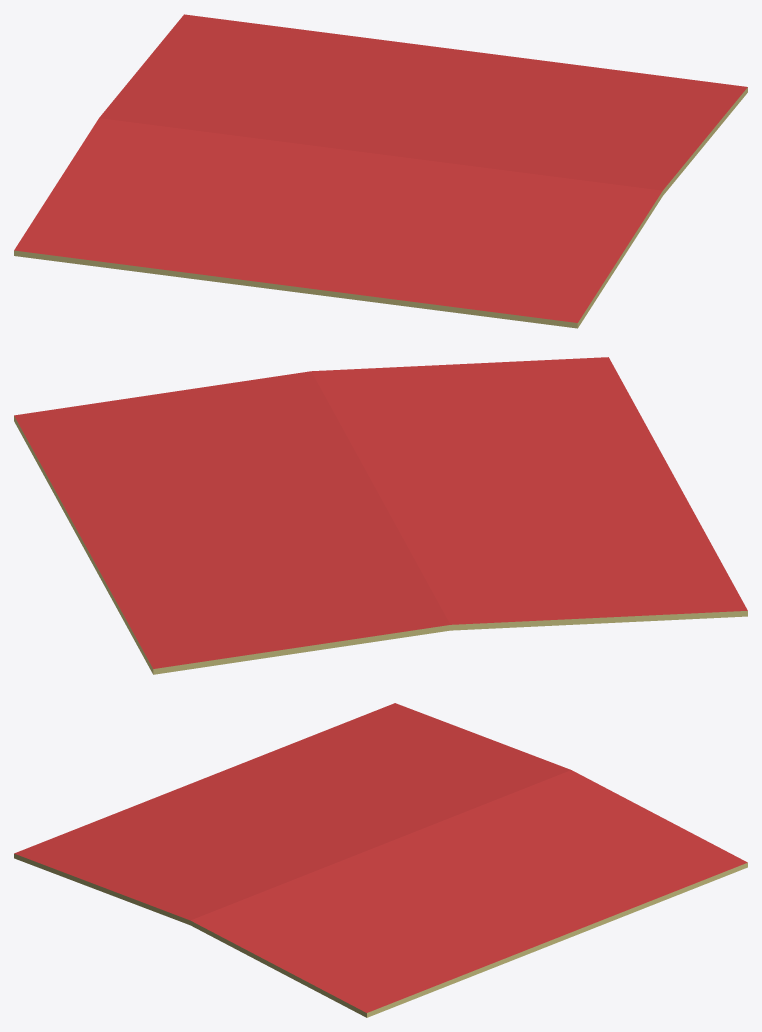
The picture shows the model from 3 angles, top to bottom: view 1: azimuth 30°, elevation 25°; view 2: azimuth 150°, elevation 25°; view 3: azimuth 270°, elevation 25°; orthographic projection. The views are drawn at different scales.
Bounding box in the file's own units: 13.7 × 13.7 × 0.363.
